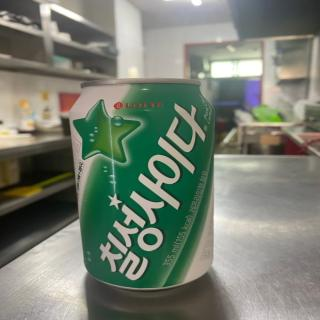chilsung: (67, 75, 216, 295)
